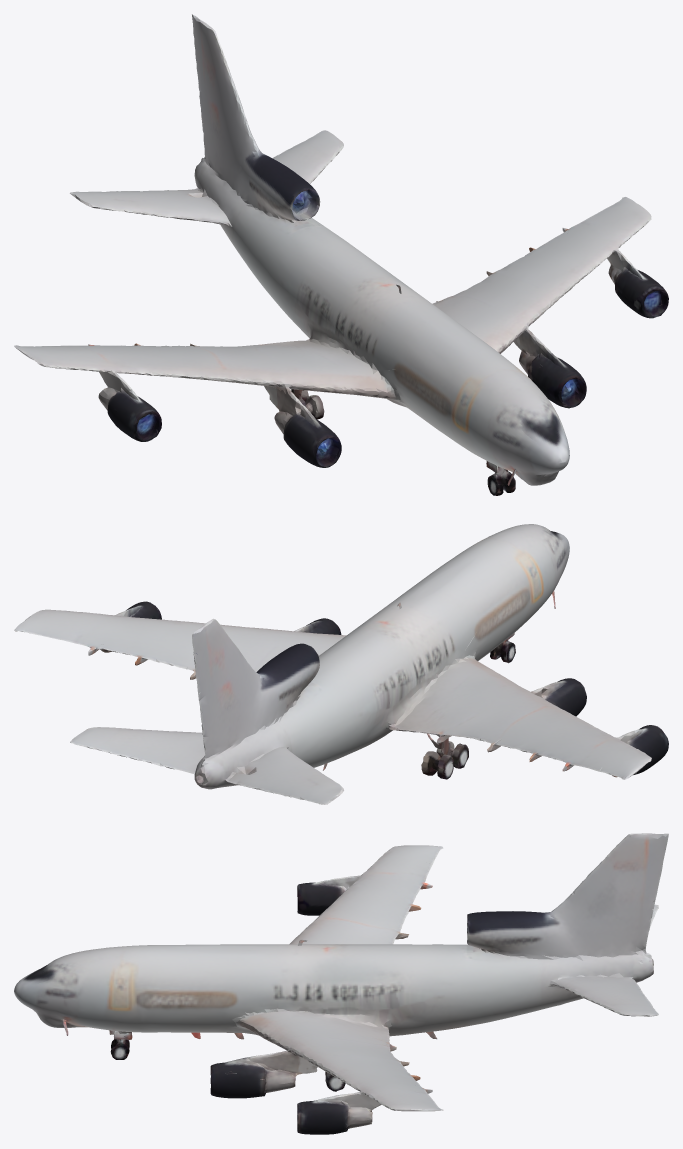
The model's file is A-50U_Mainstay_AI_Rodin.glb.
The picture shows the model from 3 angles, top to bottom: view 1: azimuth 30°, elevation 25°; view 2: azimuth 150°, elevation 25°; view 3: azimuth 270°, elevation 25°; orthographic projection. The views are drawn at different scales.
Parts seen in each view (by area): view 1: model; view 2: model; view 3: model.
Boxes of the visible parts, x1=… form: model: x1=14, y1=14, x2=668, y2=495; model: x1=14, y1=524, x2=668, y2=804; model: x1=14, y1=833, x2=668, y2=1134.
Bounding box in the file's own units: 1.82 × 0.7156 × 1.9.
1 material, 1 textured.
